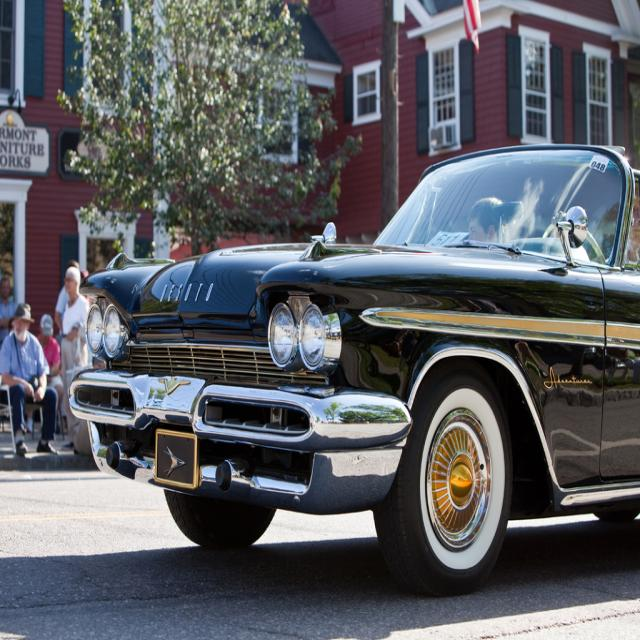car: (40, 148, 618, 578)
